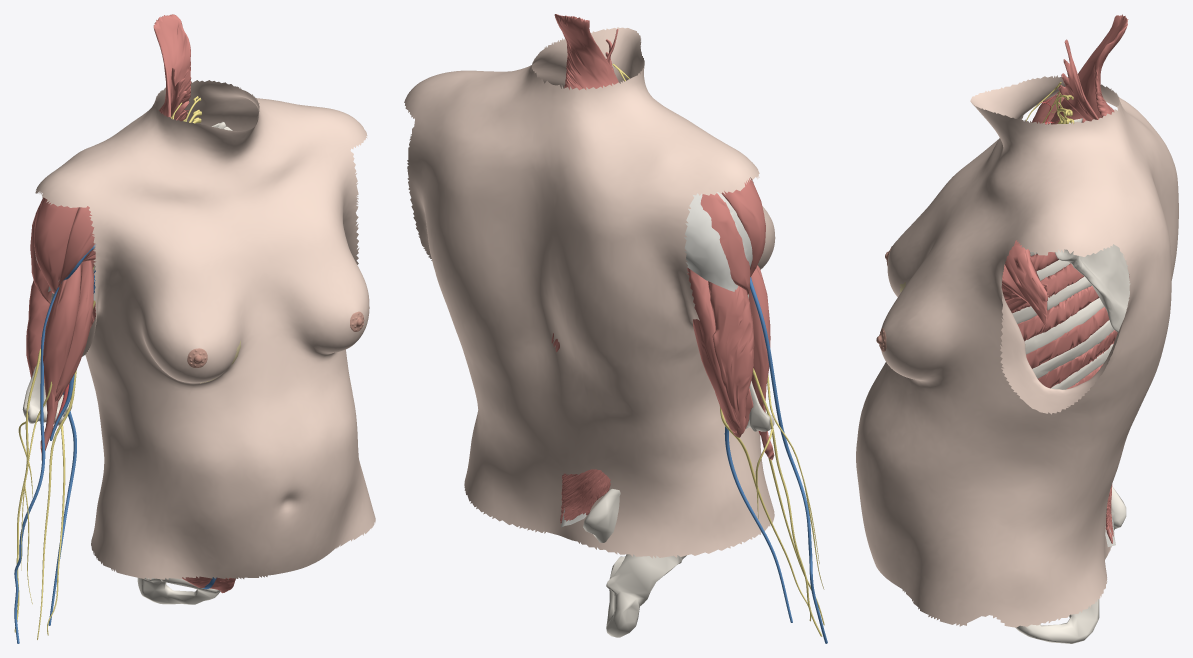
Rendered from torso-female-hybrid-mobile.glb.
3 views of the same model, side by side, from view 1: azimuth 30°, elevation 25°; view 2: azimuth 150°, elevation 25°; view 3: azimuth 270°, elevation 25° (orthographic). The views are drawn at different scales.
Visible parts, largest first — view 1: hra_VH_F_skin, bp43_FJ1478M, bp43_FJ1467M, bp43_FJ1521M, bp43_FJ1512M, bp43_FJ3288, bp43_FJ2220, bp43_FJ1468M, bp43_FJ1477M, bp43_FJ3262, bp43_FJ2218, bp43_FJ4224 (+4 smaller); view 2: hra_VH_F_skin, bp43_FJ3288, bp43_FJ1477M, za_Deltoid_fascial, bp43_FJ1521M, bp43_FJ1479M, bp43_FJ1513M, bp43_FJ1478M, bp30_FMA13359, bp43_FJ1467M, bp43_FJ2220, bp43_FJ2218 (+3 smaller); view 3: hra_VH_F_skin, bp43_FJ1451, bp43_FJ3384, bp43_FJ3288, bp43_FJ1521M, bp43_FJ1447, bp43_FJ1532M, bp43_FJ3344, bp43_FJ3346, bp43_FJ3342, bp43_FJ3347, bp43_FJ1464.
Part boxes in pixels (box(x1,y1,x2,y2)): hra_VH_F_skin: box(35, 80, 375, 579); bp43_FJ1478M: box(40, 264, 81, 460); bp43_FJ1467M: box(34, 198, 78, 293); bp43_FJ1521M: box(153, 14, 191, 117); bp43_FJ1512M: box(55, 260, 93, 402); bp43_FJ3288: box(137, 577, 220, 604); bp43_FJ2220: box(14, 244, 95, 643); bp43_FJ1468M: box(58, 206, 95, 287); bp43_FJ1477M: box(26, 280, 50, 378); bp43_FJ3262: box(22, 293, 72, 425); bp43_FJ2218: box(48, 283, 95, 625); bp43_FJ4224: box(37, 111, 201, 639); hra_VH_F_skin: box(404, 27, 775, 558); bp43_FJ3288: box(583, 489, 686, 637); bp43_FJ1477M: box(708, 281, 754, 434); za_Deltoid_fascial: box(684, 192, 752, 291); bp43_FJ1521M: box(554, 14, 618, 90); bp43_FJ1479M: box(687, 268, 741, 433); bp43_FJ1513M: box(700, 193, 750, 294); bp43_FJ1478M: box(748, 265, 774, 459); bp30_FMA13359: box(560, 469, 610, 523); bp43_FJ1467M: box(721, 178, 765, 276); bp43_FJ2220: box(750, 277, 827, 643); bp43_FJ2218: box(724, 421, 792, 622); hra_VH_F_skin: box(856, 75, 1178, 627); bp43_FJ1451: box(1011, 252, 1117, 388); bp43_FJ3384: box(1055, 244, 1130, 332); bp43_FJ3288: box(1015, 486, 1126, 643); bp43_FJ1521M: box(1048, 14, 1128, 124); bp43_FJ1447: box(1005, 240, 1047, 327); bp43_FJ1532M: box(1058, 39, 1098, 121); bp43_FJ3344: box(1024, 298, 1104, 354); bp43_FJ3346: box(1032, 320, 1113, 378); bp43_FJ3342: box(1012, 276, 1091, 323); bp43_FJ3347: box(1051, 344, 1113, 389); bp43_FJ1464: box(1001, 264, 1048, 309).
Size of the model in its own units: 3.46 by 5.24 by 2.42.
